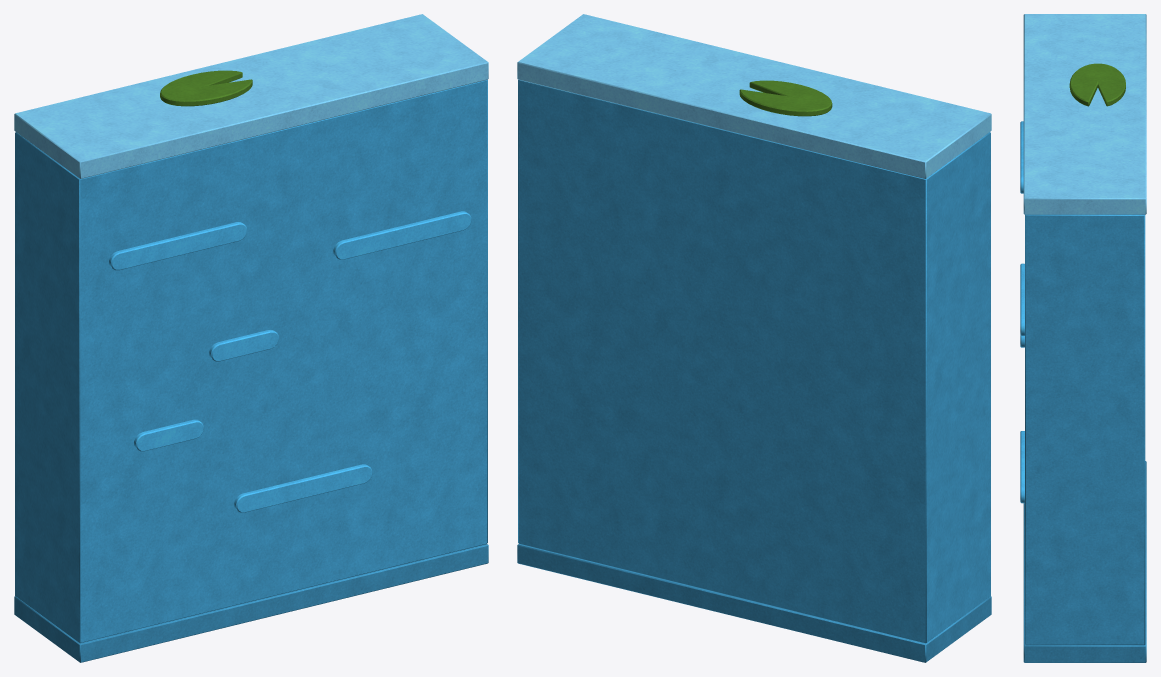
Rendered from water_level4.glb.
3 renders of one model, left to right at view 1: azimuth 30°, elevation 25°; view 2: azimuth 150°, elevation 25°; view 3: azimuth 270°, elevation 25°, orthographic. The views are drawn at different scales.
Visible parts, largest first — view 1: water_L4_01; view 2: water_L4_01; view 3: water_L4_01.
Part boxes in pixels (box(x1,y1,x2,y2)): water_L4_01: box(14, 14, 488, 662); water_L4_01: box(517, 14, 991, 662); water_L4_01: box(1020, 14, 1146, 662).
Size of the model in its own units: 3.59 by 4.26 by 1.04.
5 materials, 5 textured.
